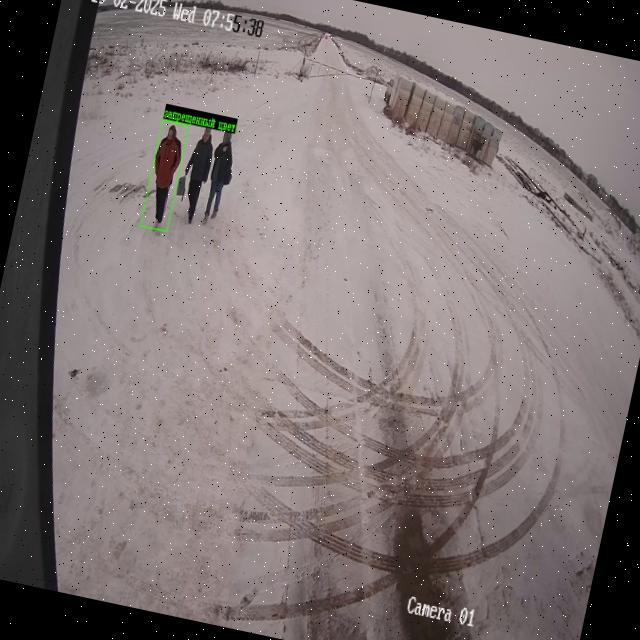Person: (154, 124, 181, 226), (185, 128, 212, 223), (204, 135, 232, 221)
